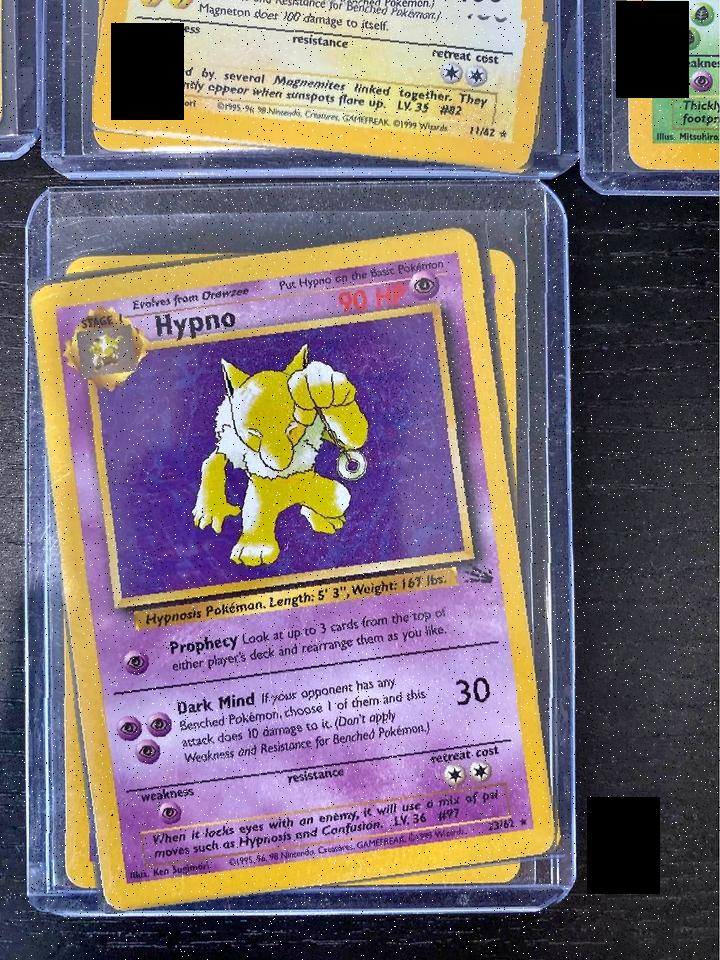card: (29, 226, 558, 912), (92, 0, 552, 168)
